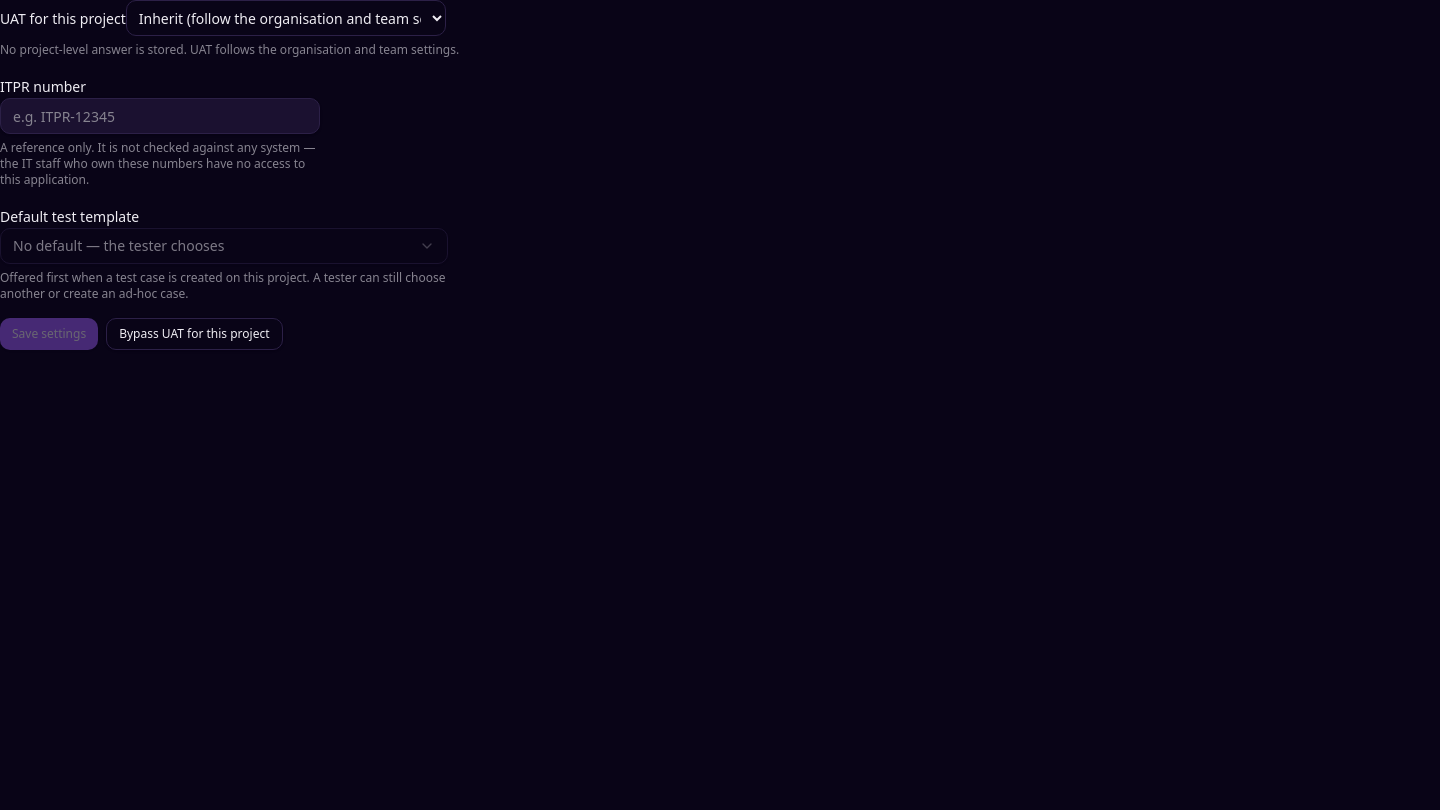
the bypass writes one risk, one decision and one flag from one reason (T045) › carries the operator's single reason into both, and into the settings row
Click the button "Bypass UAT for this project" at (194, 334), box [106,318,282,350]
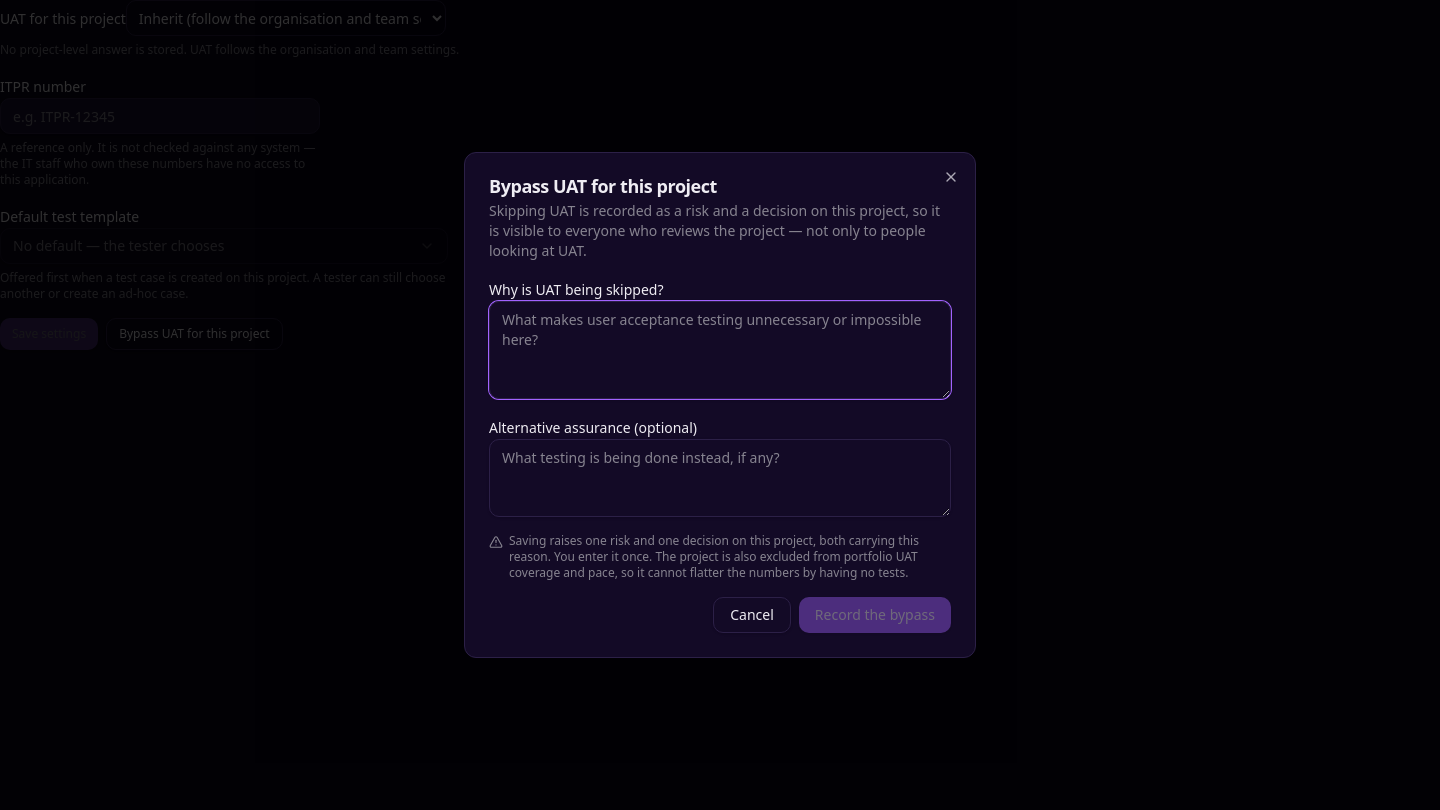
Replace the text in the text box labelled "Why is UAT being skipped?" with "Configuration-only release, verified by the vendor" at (720, 350), box [489,301,951,399]
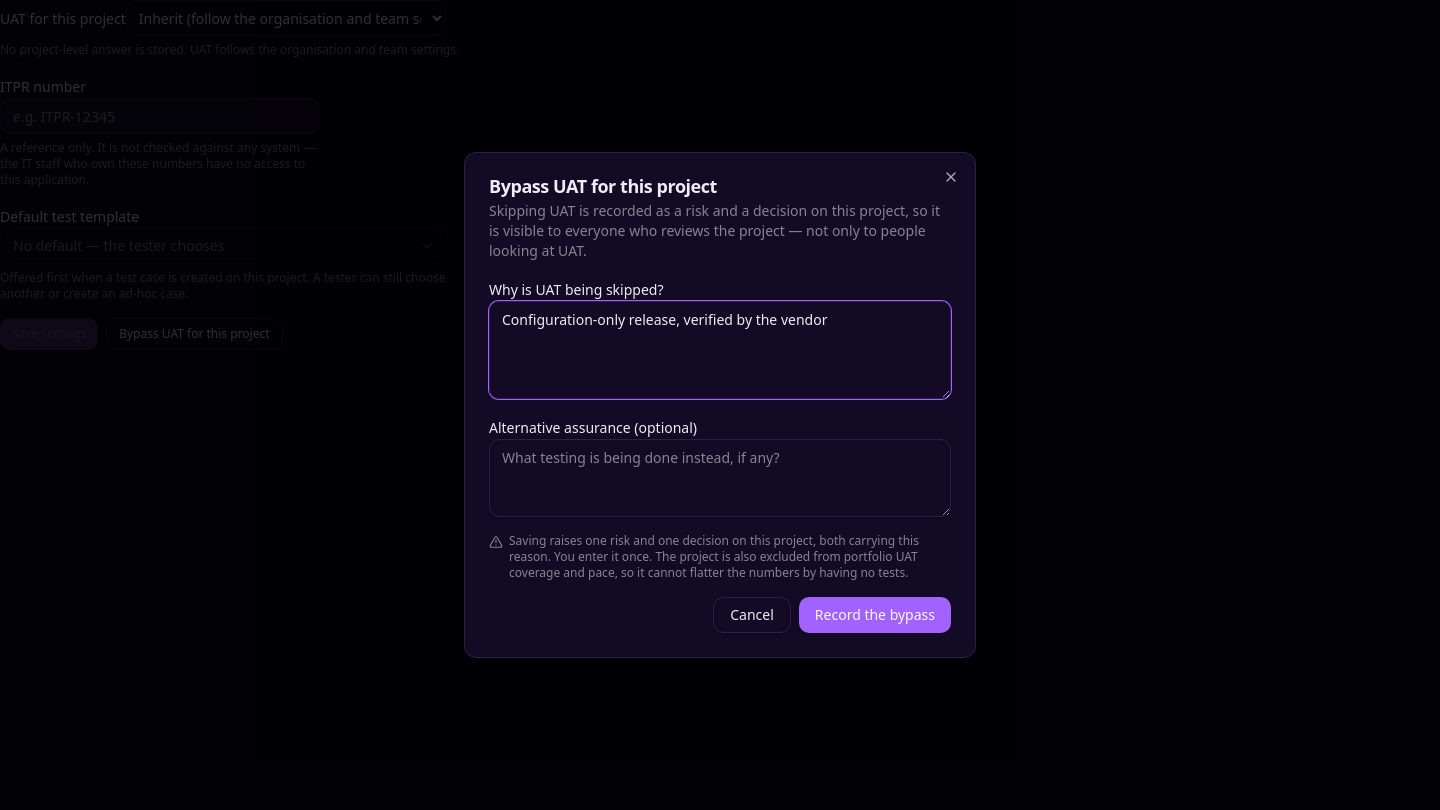
Click the button "Record the bypass" at (875, 615), box [799,597,951,633]
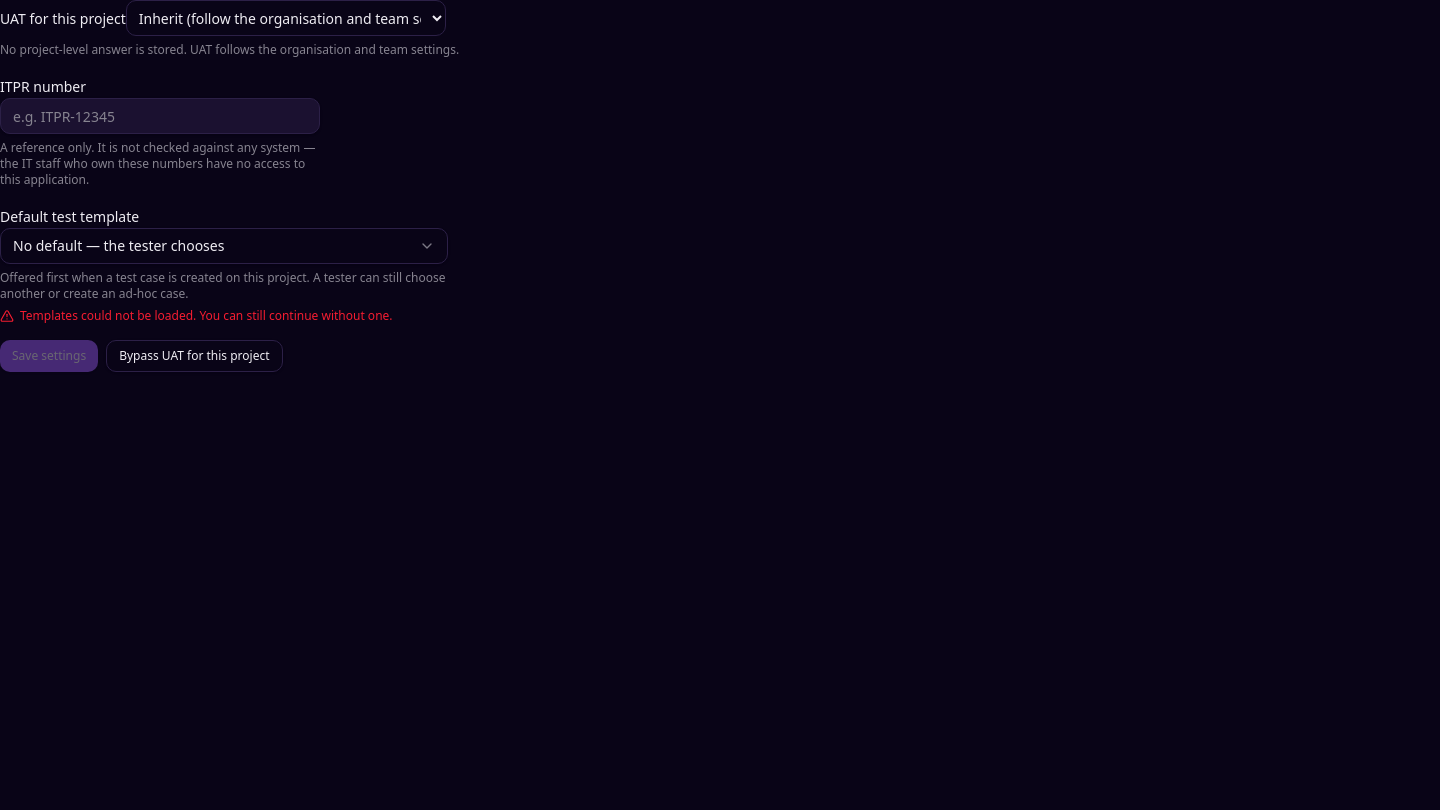
Check: no labels labelled "Why is UAT being skipped" are shown
